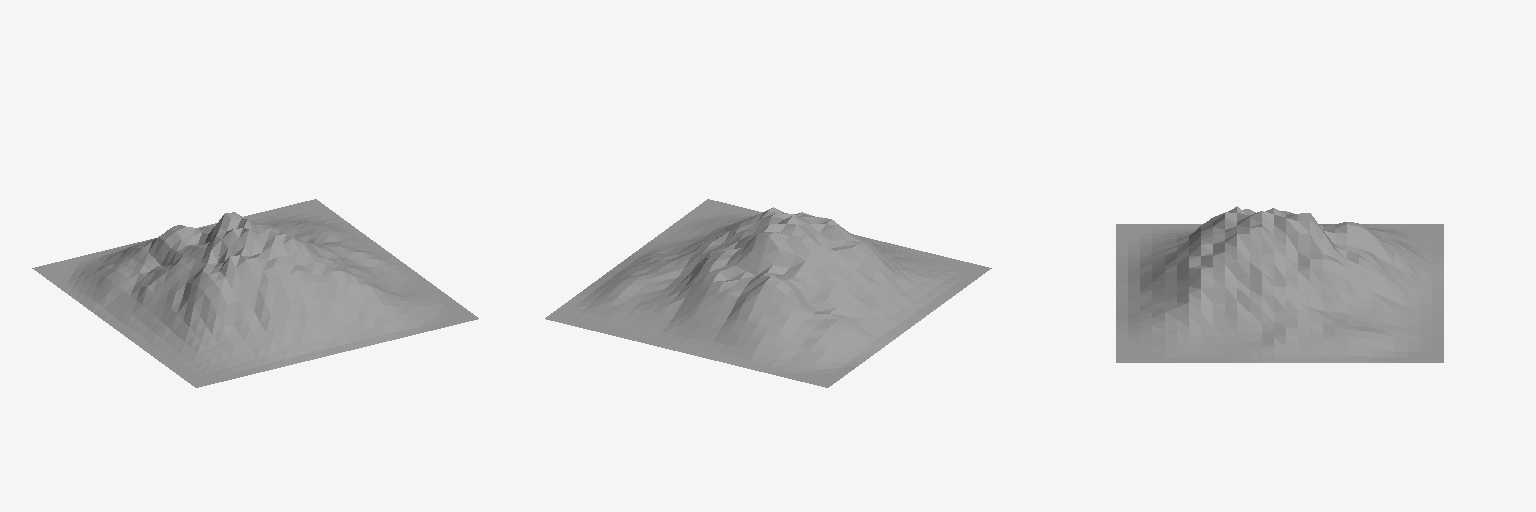
The model's file is fondo.obj.
3 views of the same model, side by side, from view 1: azimuth 30°, elevation 25°; view 2: azimuth 150°, elevation 25°; view 3: azimuth 270°, elevation 25° (orthographic).
Visible parts, largest first — view 1: fondo_Landscape; view 2: fondo_Landscape; view 3: fondo_Landscape.
Part boxes in pixels (x1,y1,x2,y2): fondo_Landscape: (32, 199, 478, 387); fondo_Landscape: (545, 199, 991, 387); fondo_Landscape: (1116, 206, 1443, 362).
Size of the model in its own units: 110 by 27.73 by 110.